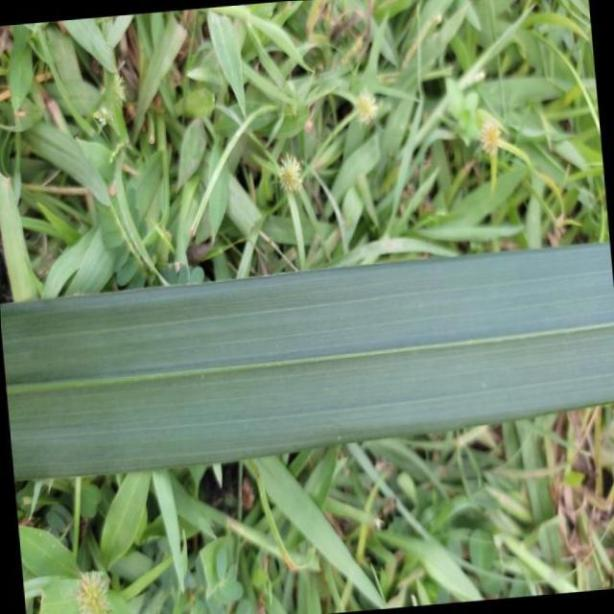Healthy: (0, 238, 614, 478)
